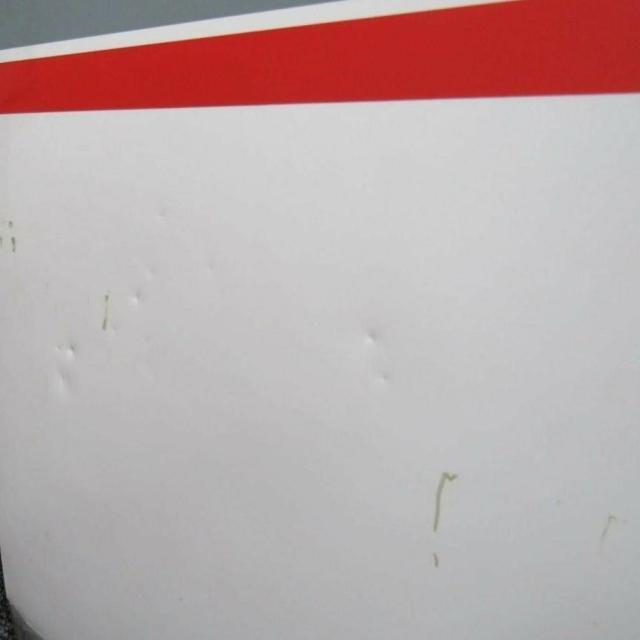Dent: (51, 369, 82, 399), (363, 329, 383, 347), (376, 370, 393, 385), (155, 209, 170, 223), (131, 290, 144, 306), (64, 344, 79, 357), (109, 323, 120, 335), (54, 344, 63, 353), (147, 268, 155, 277)
